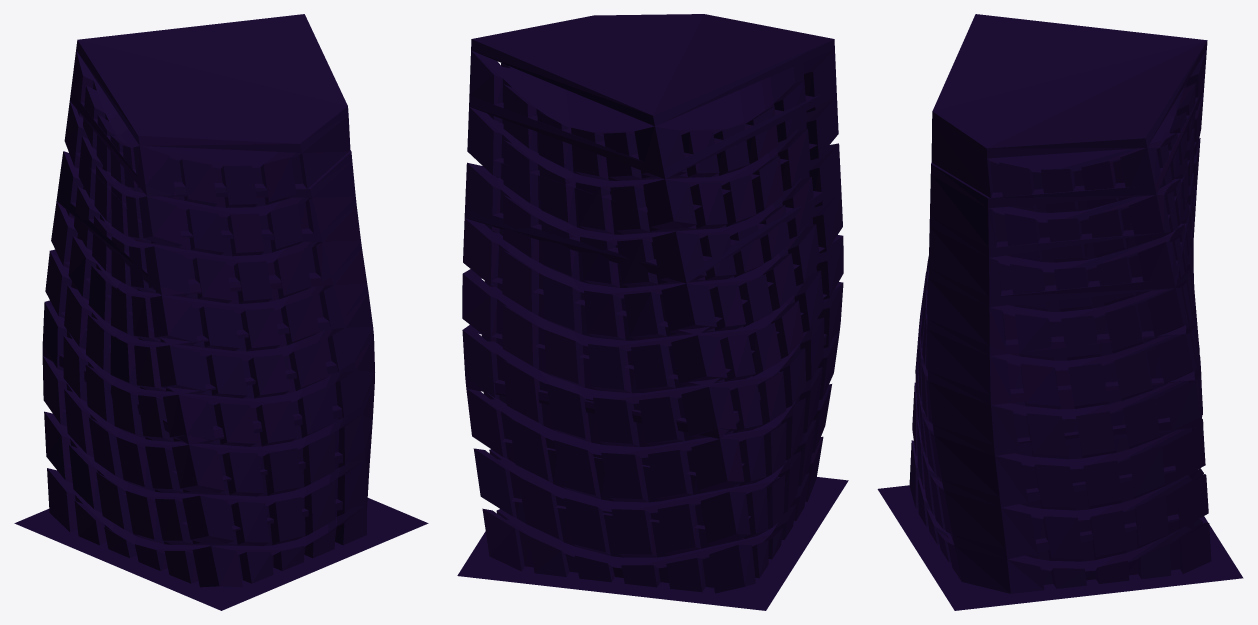
The model's file is skyscraper_oozed.FBX.
3 views of the same model, side by side, from view 1: azimuth 30°, elevation 25°; view 2: azimuth 150°, elevation 25°; view 3: azimuth 270°, elevation 25° (orthographic). The views are drawn at different scales.
Parts seen in each view (by area): view 1: Layer:windows, Layer:bldgconcrete, Layer:street; view 2: Layer:windows, Layer:bldgconcrete, Layer:street; view 3: Layer:windows, Layer:bldgconcrete, Layer:street.
Part boxes in pixels (box(x1,y1,x2,y2)): Layer:windows: box(42, 50, 374, 594); Layer:bldgconcrete: box(36, 14, 404, 601); Layer:street: box(14, 498, 428, 610); Layer:windows: box(462, 49, 843, 595); Layer:bldgconcrete: box(463, 14, 842, 599); Layer:street: box(457, 477, 848, 610); Layer:windows: box(909, 49, 1211, 593); Layer:bldgconcrete: box(896, 14, 1224, 602); Layer:street: box(877, 485, 1243, 610).
Bounding box in the file's own units: 5295 × 7298 × 5295.
